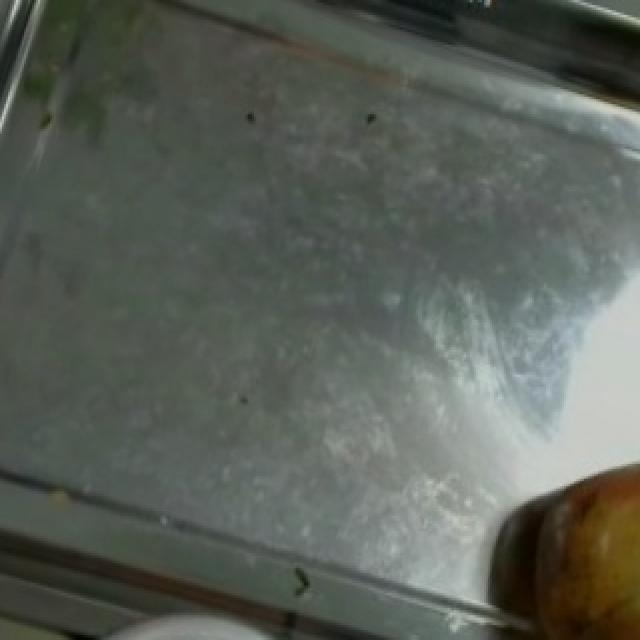fruit: (512, 441, 638, 640)
